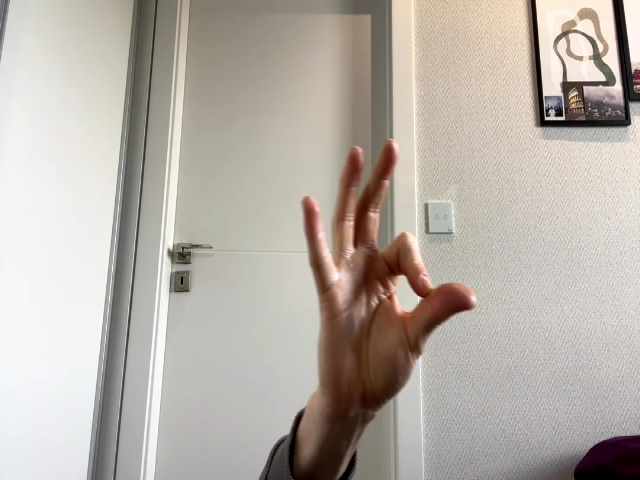S: (302, 140, 476, 399)
